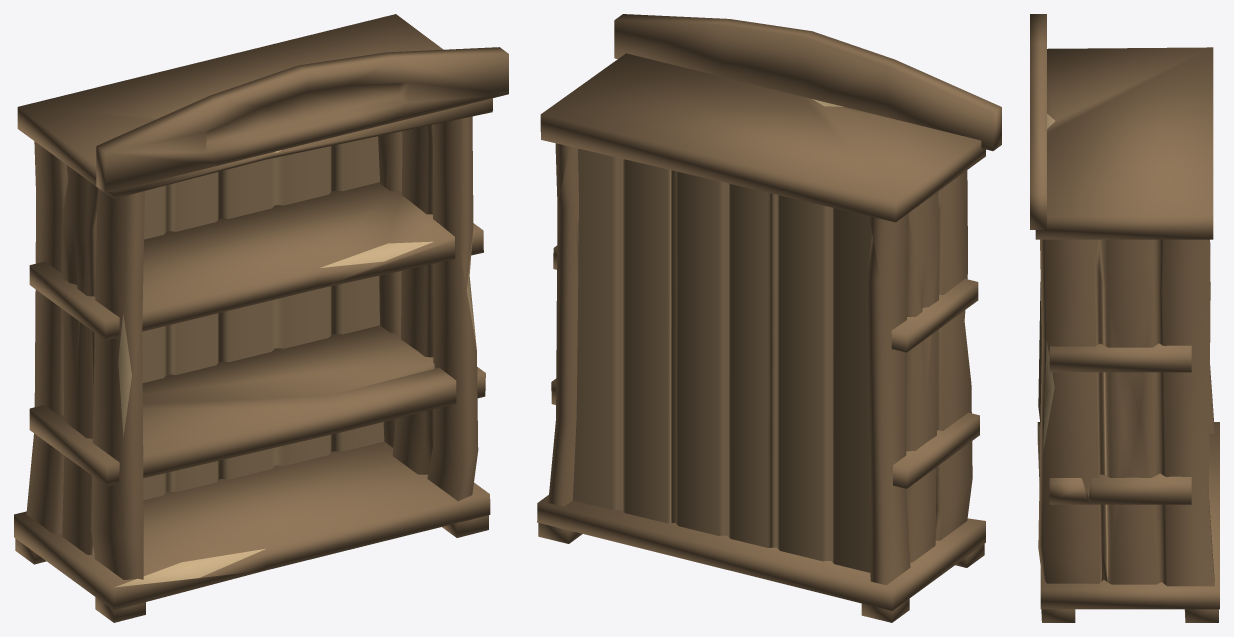
Rendered from rpgpp_ag_shelf_wood_07c.fbx.
3 renders of one model, left to right at view 1: azimuth 30°, elevation 25°; view 2: azimuth 150°, elevation 25°; view 3: azimuth 270°, elevation 25°, orthographic. The views are drawn at different scales.
Visible parts, largest first — view 1: rpgpp_ag_shelf_wood_07c; view 2: rpgpp_ag_shelf_wood_07c; view 3: rpgpp_ag_shelf_wood_07c.
Boxes of the visible parts, x1=… form: rpgpp_ag_shelf_wood_07c: x1=14, y1=14, x2=508, y2=622; rpgpp_ag_shelf_wood_07c: x1=537, y1=14, x2=1001, y2=622; rpgpp_ag_shelf_wood_07c: x1=1030, y1=14, x2=1219, y2=622.
Size of the model in its own units: 1.63 by 1.96 by 0.7275.
